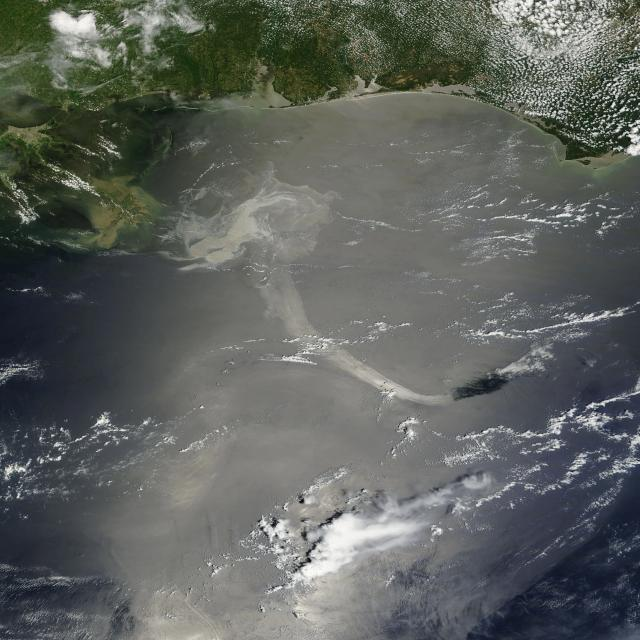oil spill: (188, 173, 333, 335)
